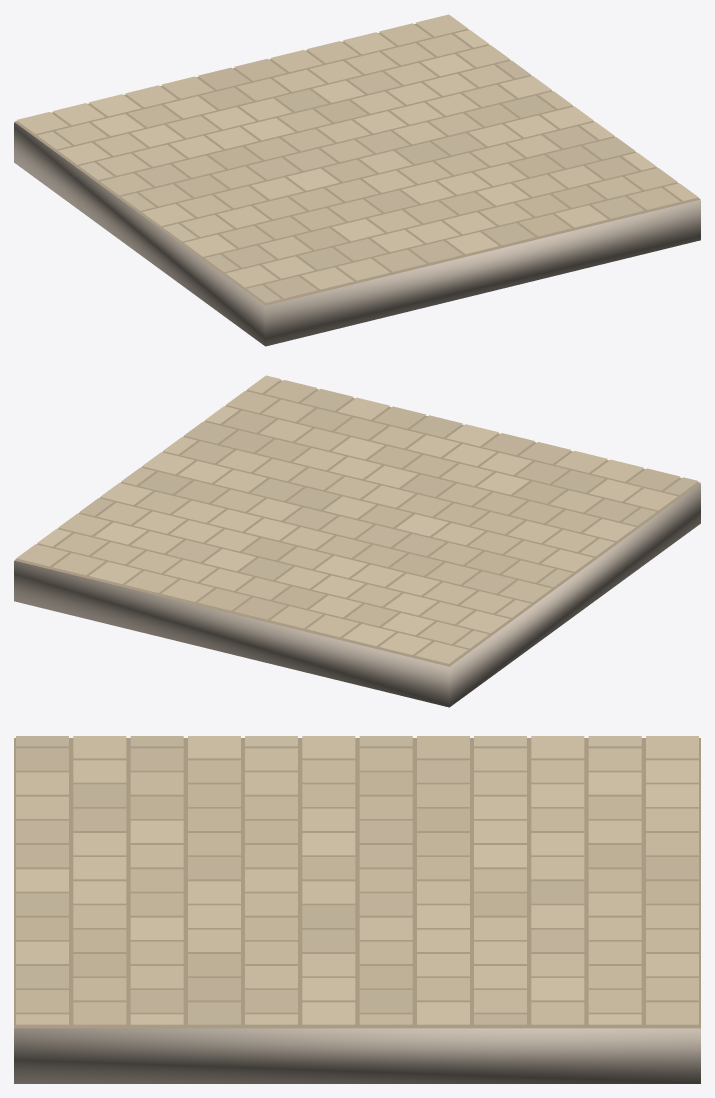
Rendered from plaza_tile.glb.
3 renders of one model, top to bottom at view 1: azimuth 30°, elevation 25°; view 2: azimuth 150°, elevation 25°; view 3: azimuth 270°, elevation 25°, orthographic. The views are drawn at different scales.
Visible parts, largest first — view 1: Plaza_Tile_Top, Plaza_Tile_Body; view 2: Plaza_Tile_Top, Plaza_Tile_Body; view 3: Plaza_Tile_Top, Plaza_Tile_Body.
Boxes of the visible parts, <box> form: Plaza_Tile_Top: <box>14,14,700,305</box>; Plaza_Tile_Body: <box>14,122,700,346</box>; Plaza_Tile_Top: <box>14,375,700,666</box>; Plaza_Tile_Body: <box>14,483,700,707</box>; Plaza_Tile_Top: <box>14,736,700,1028</box>; Plaza_Tile_Body: <box>14,1028,700,1083</box>.
Size of the model in its own units: 8 by 0.75 by 8.
